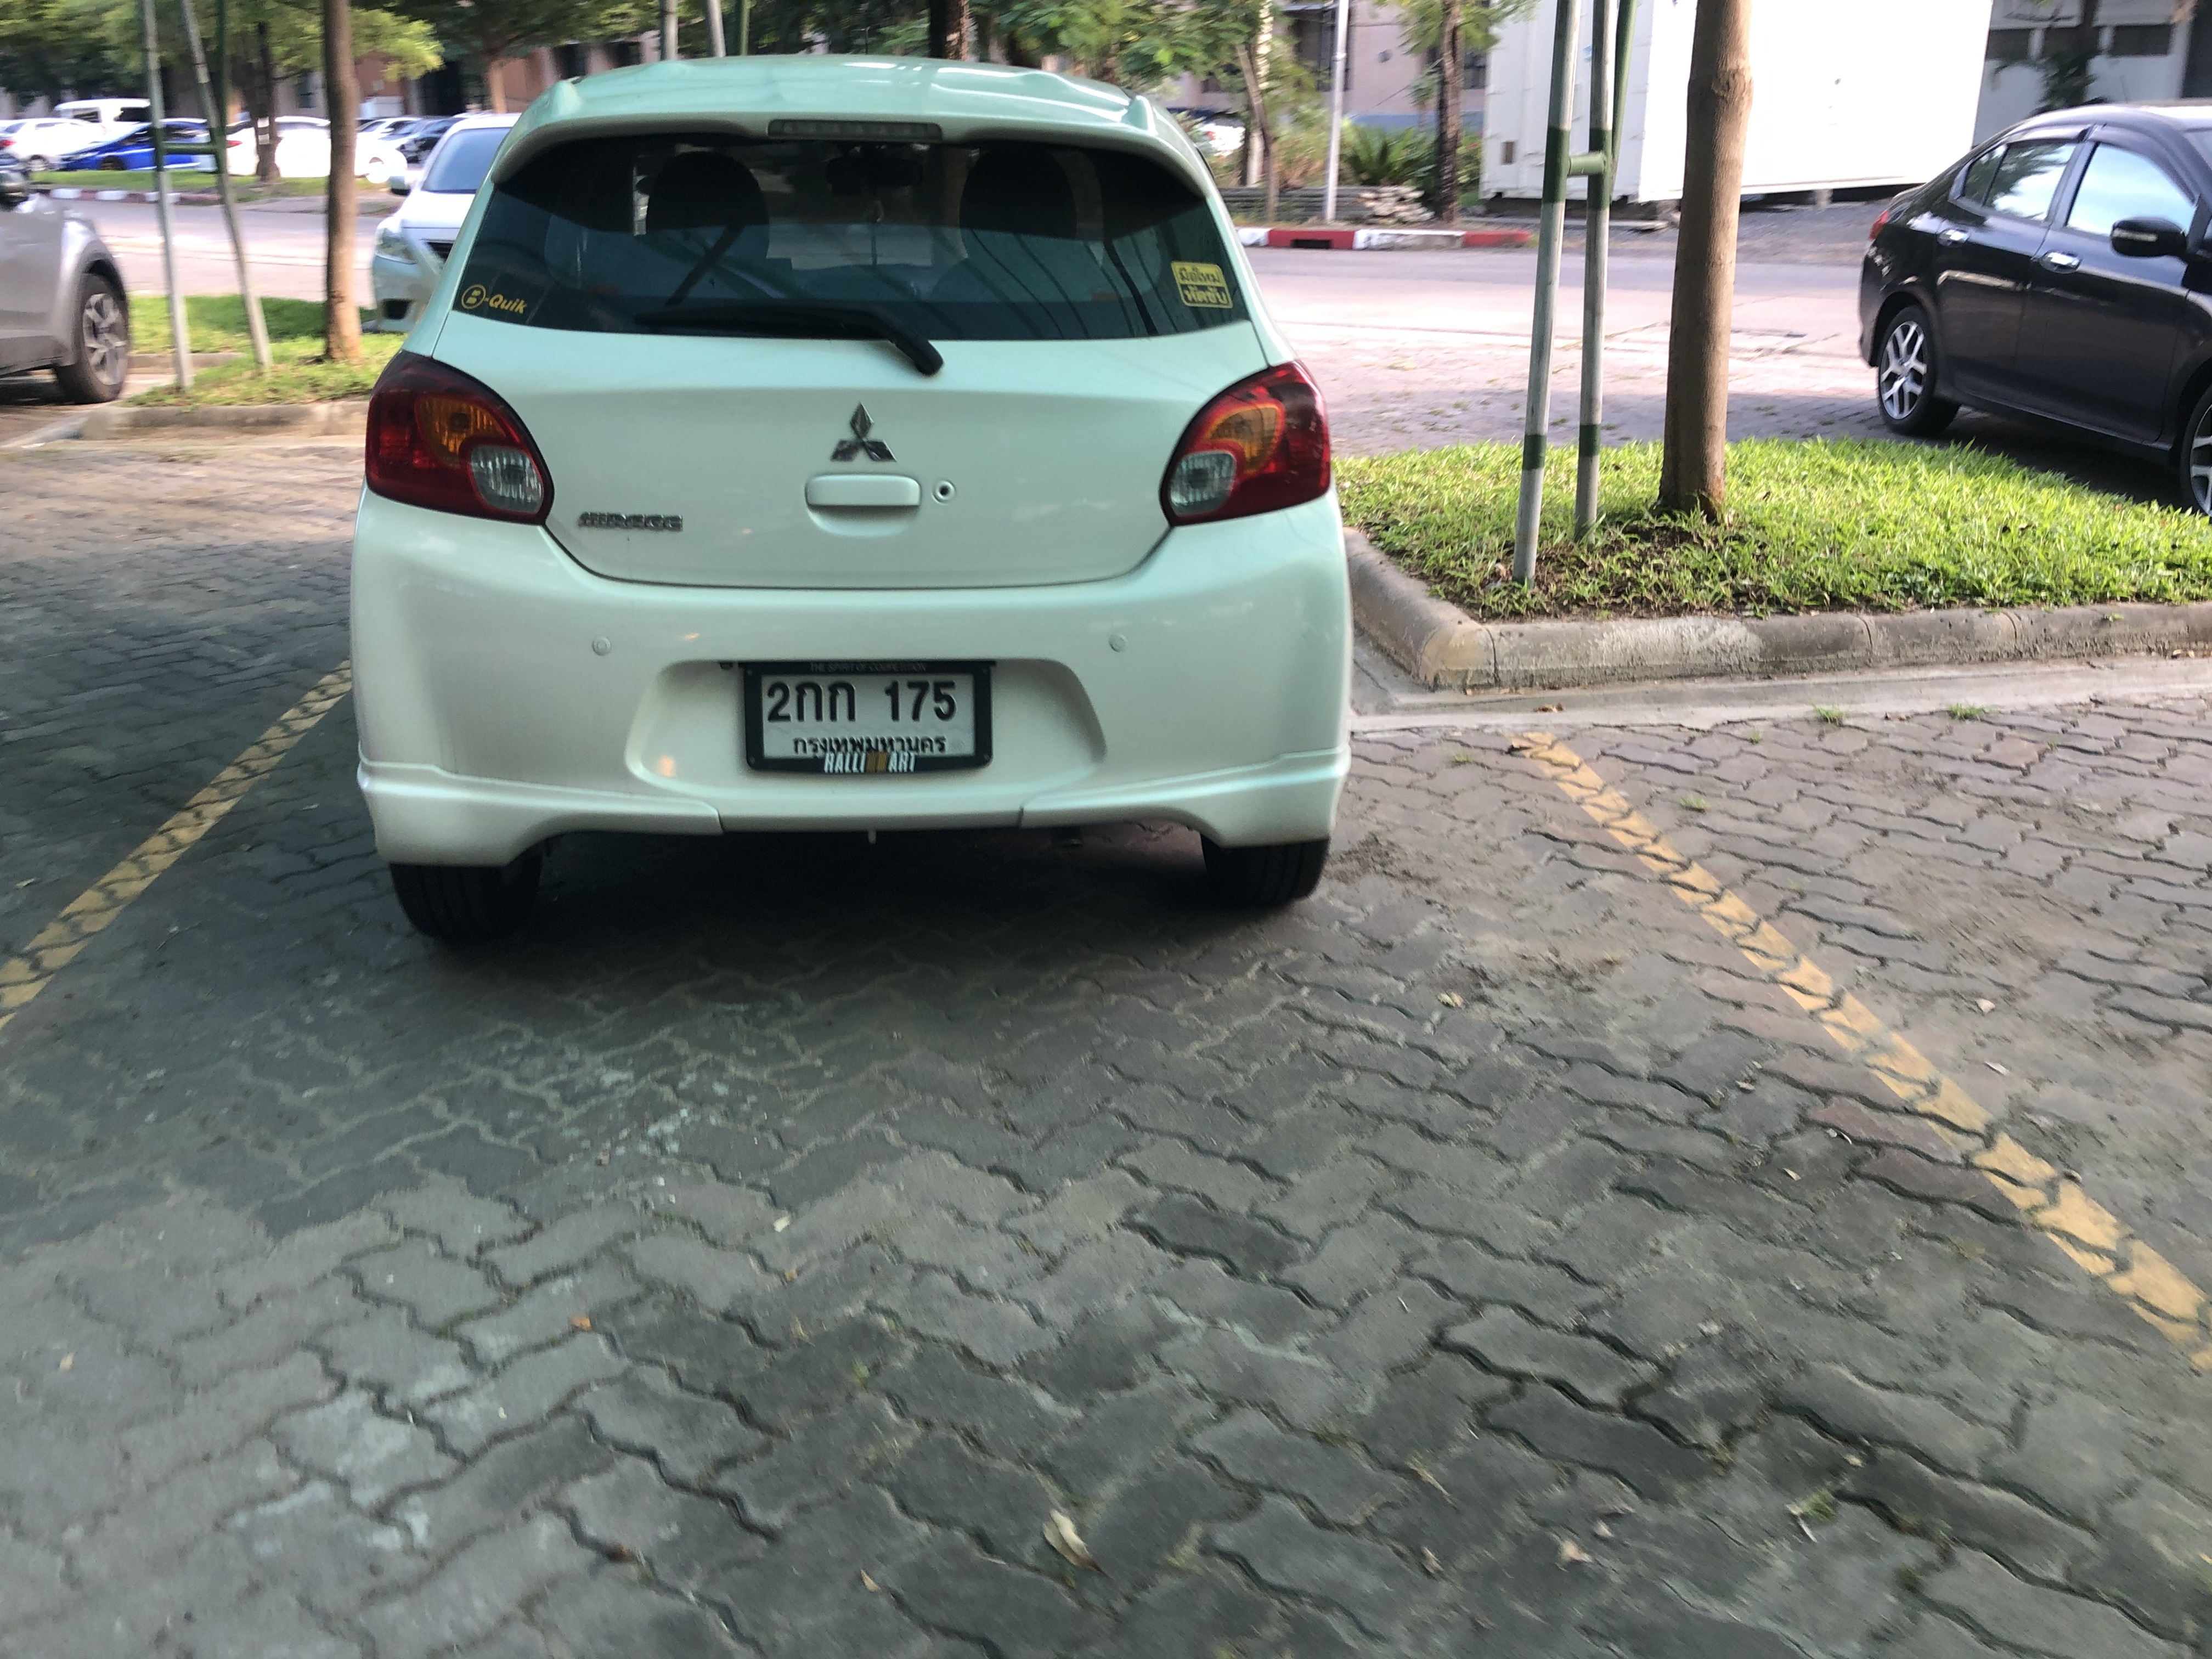in: (761, 676, 981, 758)
out: (738, 657, 1001, 777)
